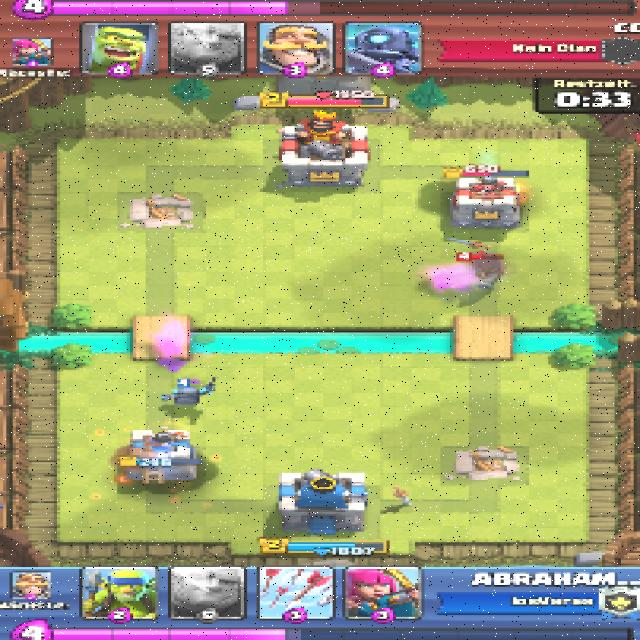Enemy-Musketeer: (463, 256, 513, 289)
Player-MiniPEKKA: (158, 380, 218, 410)
